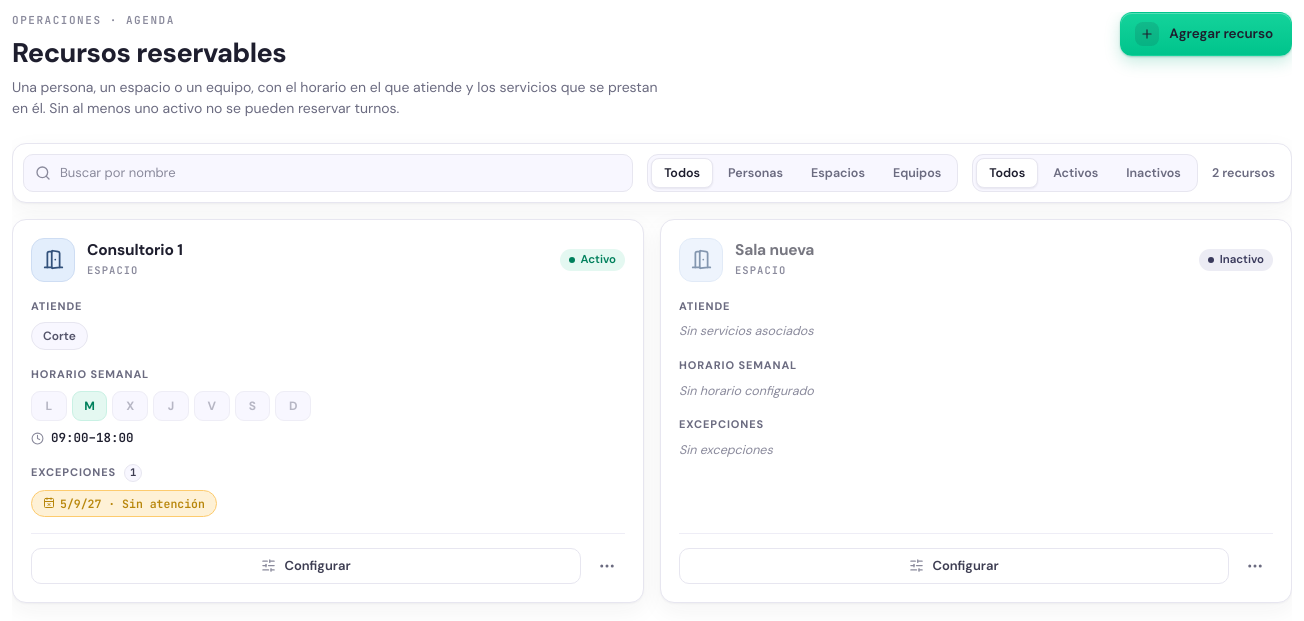
Test: PAN-AGE-03 › filtra por nombre y por estado, y permite limpiar
Expected: the text "2 recursos" is shown, [1212,164,1275,182]
Type "consultorio" into the search field with placeholder "Buscar por nombre" at point(328, 173), box [23,154,633,192]
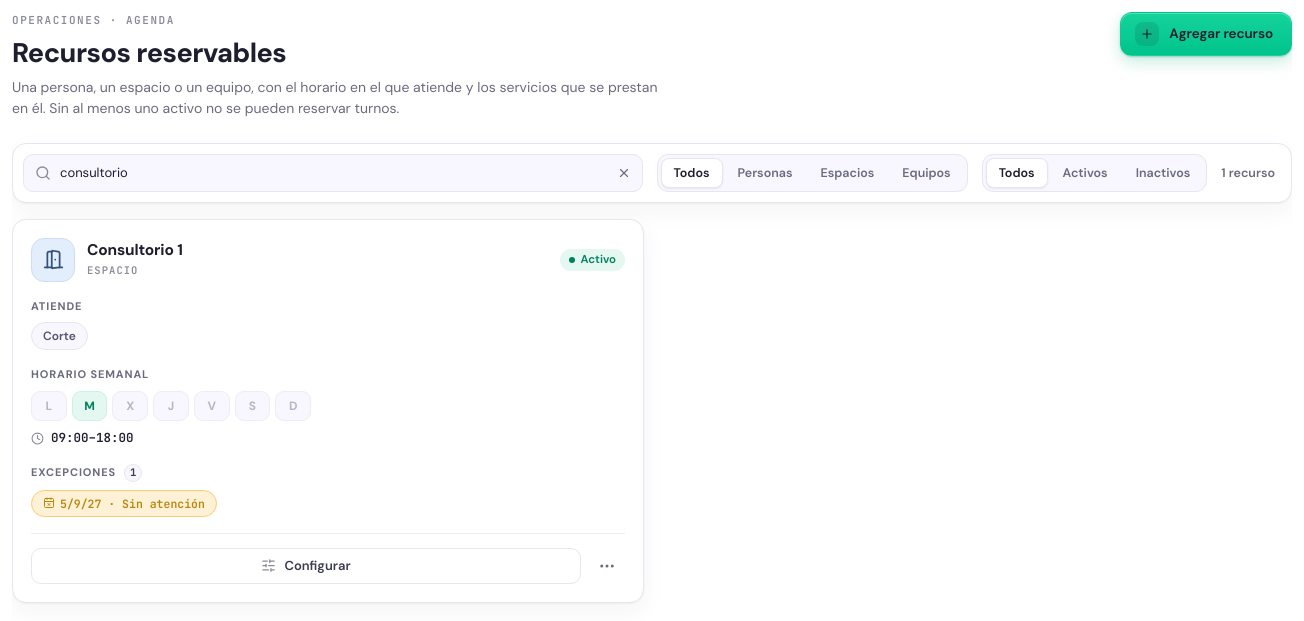
Expected: the text "1 recurso" is shown, [1221,164,1275,182]
Expected: the heading "Sala nueva" is gone
Clear the search field with placeholder "Buscar por nombre" at point(333, 173), box [23,154,642,192]
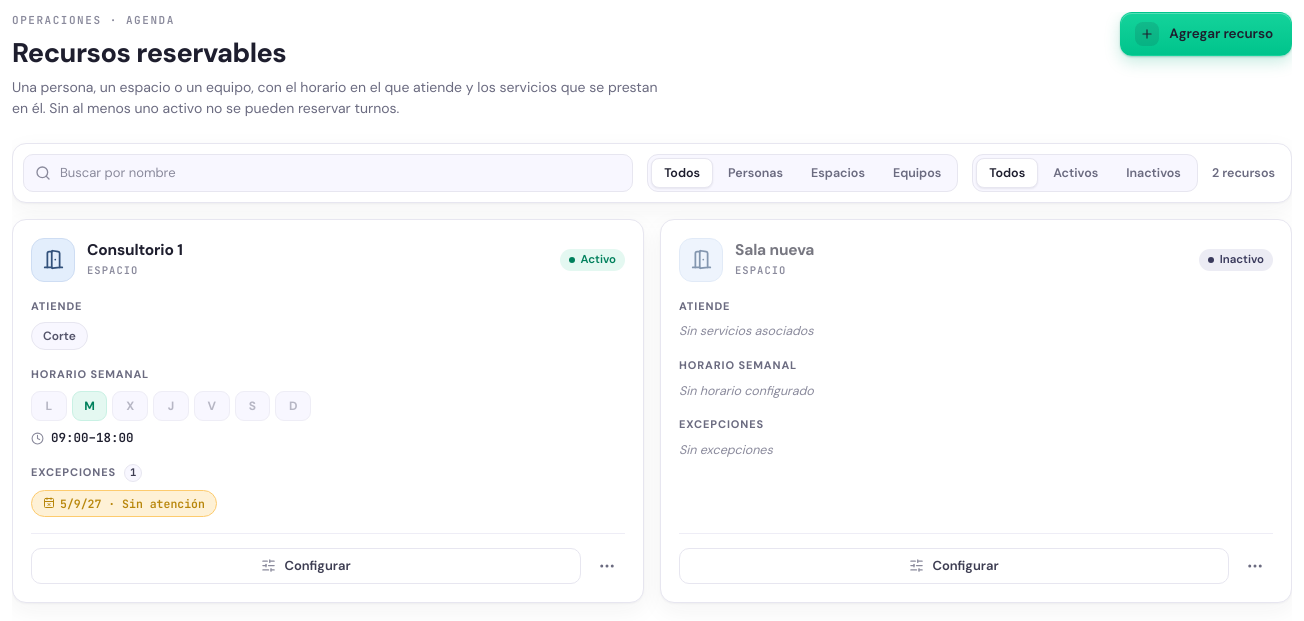
Click the button "Inactivos" at point(1154, 173), box [1113,158,1194,188]
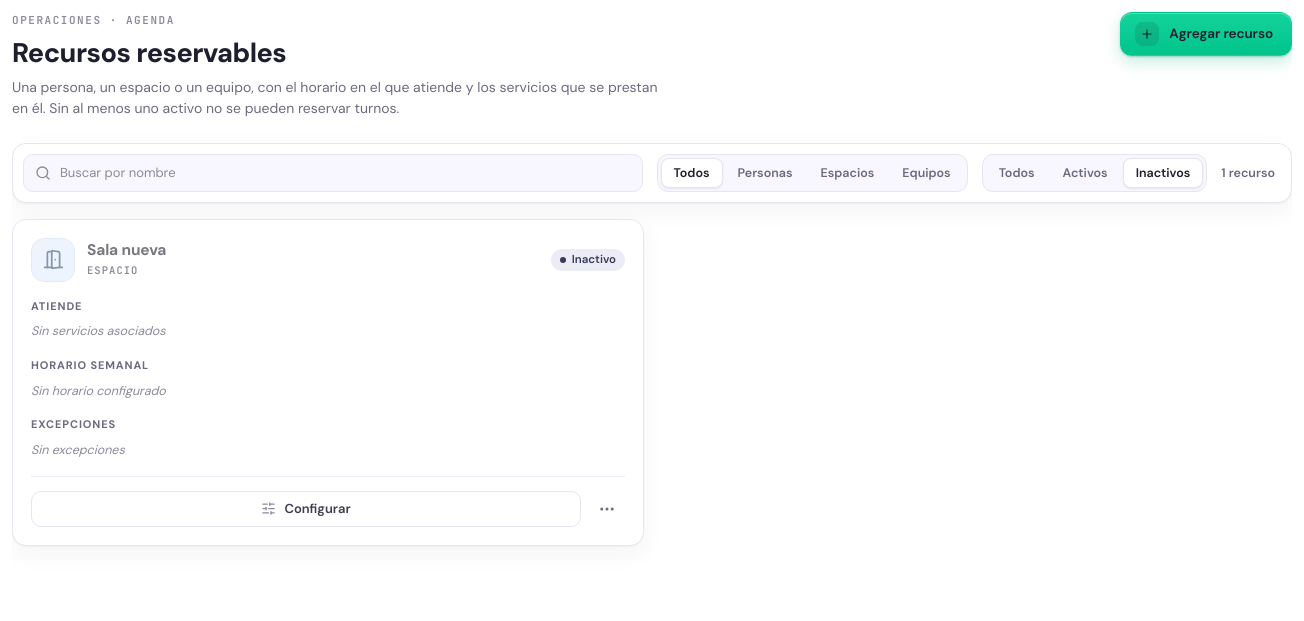
Expected: the heading "Sala nueva" is shown, [87,240,166,260]
Expected: the heading "Consultorio 1" is gone
Click the button "Activos" at point(1085, 173), box [1050,158,1121,188]
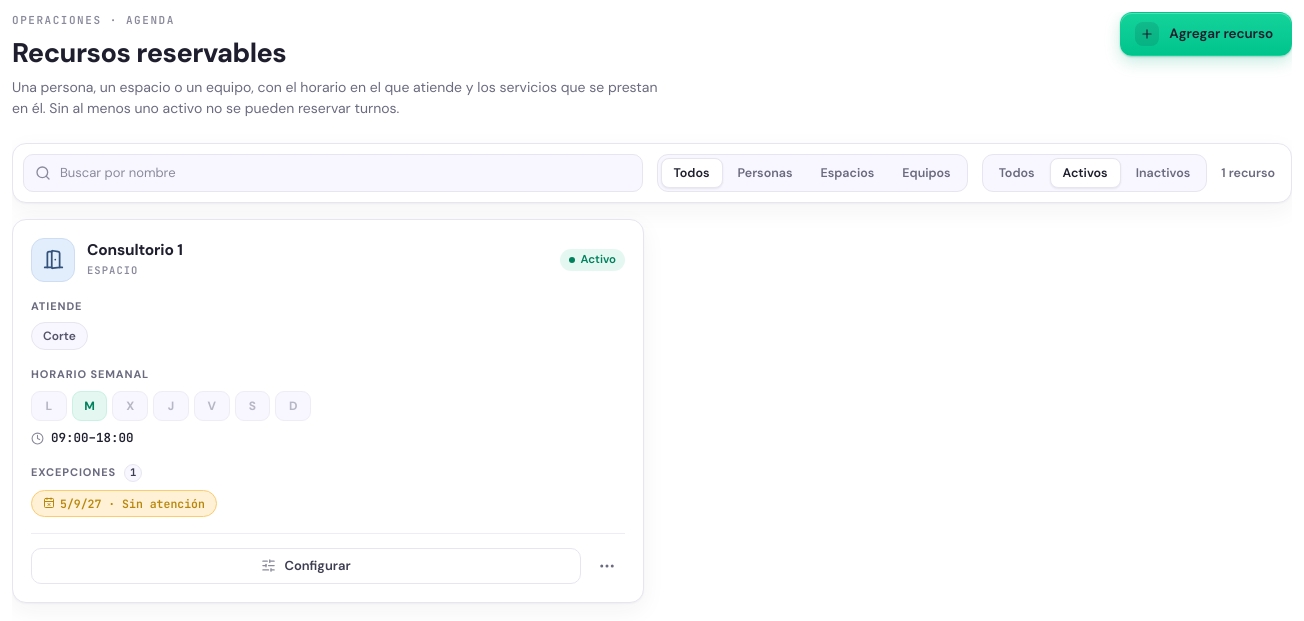
Click the button "Equipos" at point(926, 173), box [889,158,964,188]
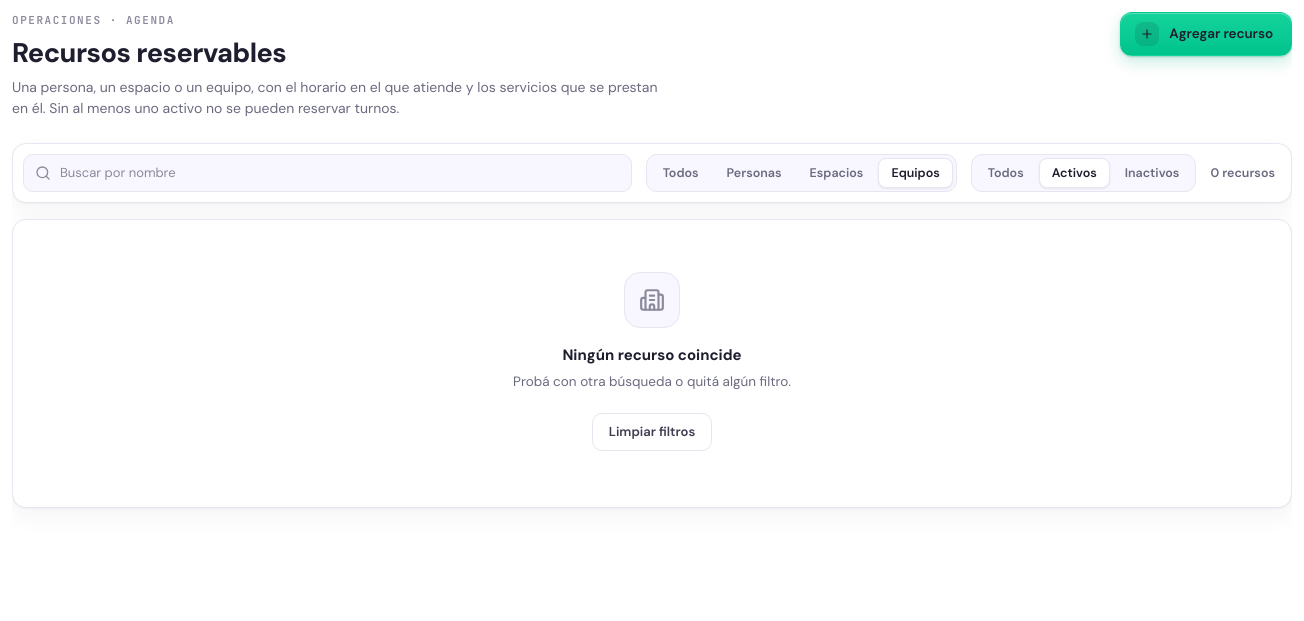
Expected: the text "Ningún recurso coincide" is shown, [562,344,742,366]
Click the button "Limpiar filtros" at point(652, 432), box [592,413,712,451]
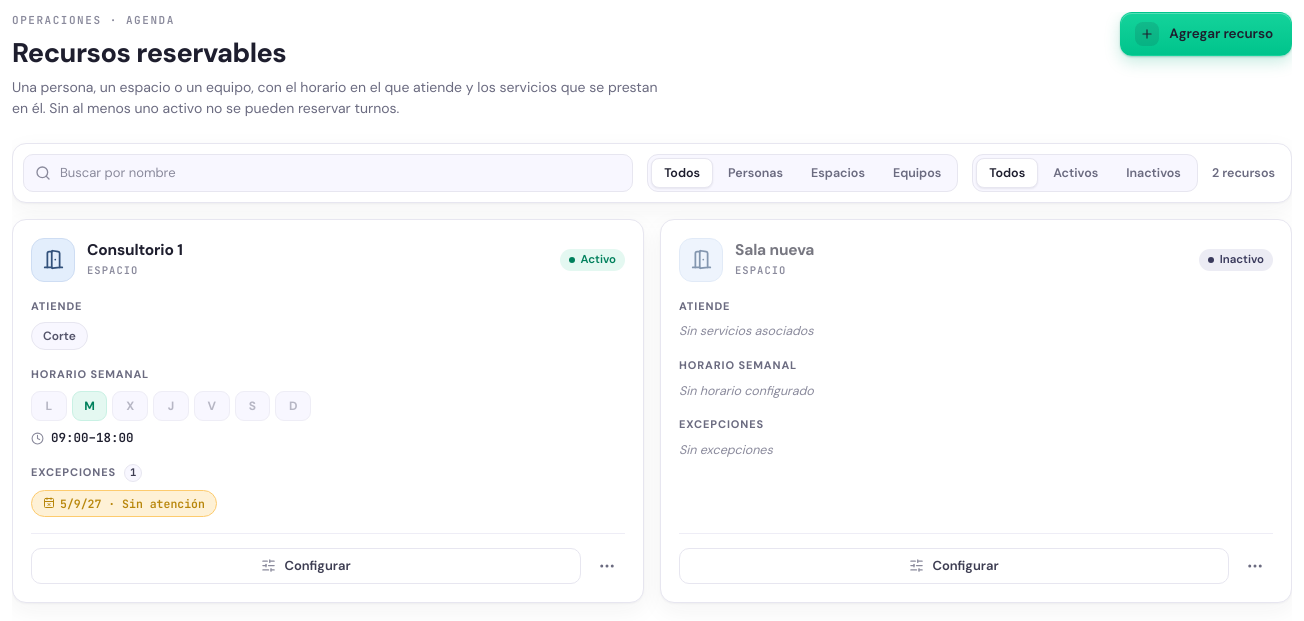
Expected: the text "2 recursos" is shown, [1212,164,1275,182]
